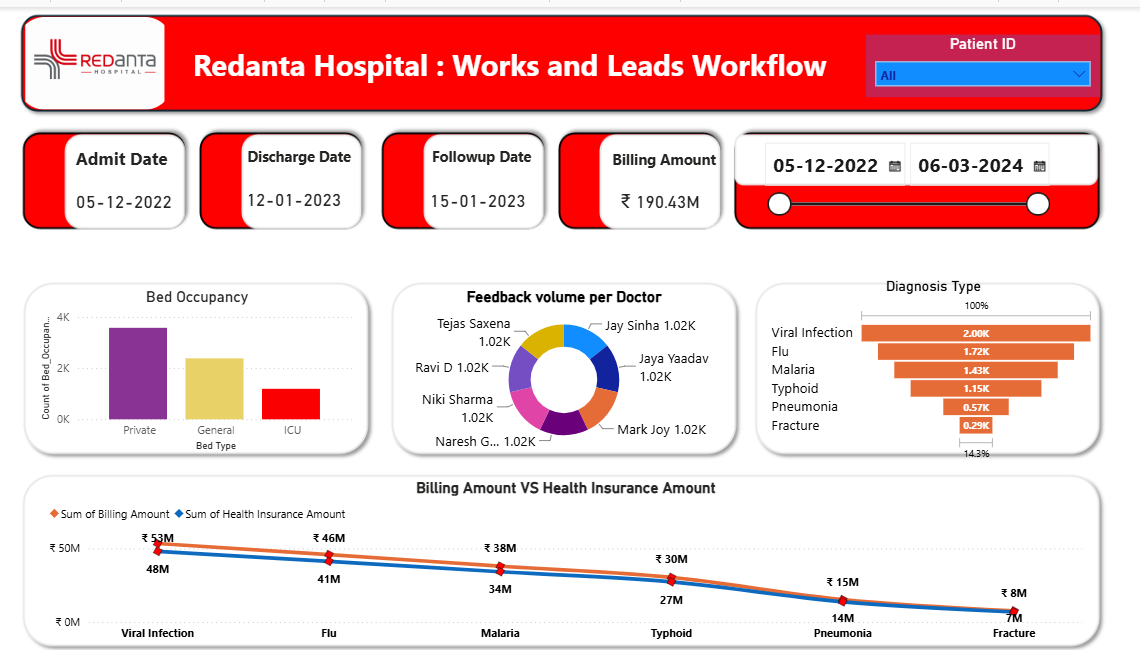

The page's visual inventory and layout, read from the dashboard file:
{"tool":"powerbi","page":{"name":"Page 1","canvas":[1280,720],"ordinal":0},"visuals":[{"type":"image","box":[45.3,11,170.2,101.5],"z":0},{"type":"textbox","box":[233.3,37,712.2,61.7],"z":1000},{"type":"slicer","title":"Patient ID","fields":{"Values":["Sheet1.Patient_ID"]},"box":[977,30.2,256.6,68.6],"z":2000},{"type":"card","fields":{"Values":["Min(Sheet1.Admit_Date)"]},"box":[91.9,197.6,141.3,32.9],"z":3000},{"type":"textbox","box":[98.8,148.2,122.1,35.7],"z":4000},{"type":"textbox","box":[278.6,148.2,152.3,35.7],"z":5000},{"type":"textbox","box":[480.3,148.2,149.6,35.7],"z":6000},{"type":"card","fields":{"Values":["Min(Sheet1.Discharge_Date)"]},"box":[278.6,197.6,141.3,26.1],"z":7000},{"type":"card","fields":{"Values":["Min(Sheet1.Followup Date)"]},"box":[480.3,199,141.3,26.1],"z":8000},{"type":"textbox","box":[680.6,150.9,149.6,35.7],"z":9000},{"type":"card","fields":{"Values":["Sum(Sheet1.Billing Amount)"]},"box":[680.6,197.6,141.3,32.9],"z":10000},{"type":"slicer","fields":{"Values":["Sheet1.Admit_Date"]},"box":[853.5,138.6,333.4,94.7],"z":11000},{"type":"columnChart","title":" Bed Occupancy","fields":{"Category":["Sheet1.Bed_Occupancy"],"Y":["CountNonNull(Sheet1.Bed_Occupancy)"]},"box":[65.9,307.4,354,185.2],"z":12000},{"type":"donutChart","title":"Feedback volume per Doctor ","fields":{"Category":["Sheet1.Doctor"],"Y":["CountNonNull(Sheet1.Doctor)"]},"box":[461.1,307.4,369.1,185.2],"z":13000},{"type":"funnel","title":"Diagnosis Type","fields":{"Category":["Sheet1.Diagnosis"],"Y":["CountNonNull(Sheet1.Diagnosis)"]},"box":[868.6,297.8,365,204.5],"z":14000},{"type":"lineChart","title":"Billing Amount VS Health Insurance Amount","fields":{"Y":["Sum(Sheet1.Billing Amount)","Sum(Sheet1.Health Insurance Amount)"],"Category":["Sheet1.Diagnosis"]},"box":[75.5,517.3,1144.4,188],"z":15000}]}

Visuals, with their boxes in screenshot pixels (x1, y1, x2, y2), scaled from the page's 1280x720 canvas onto the 1140x650 screenshot:
image: {"left": 40, "top": 10, "right": 192, "bottom": 102}
textbox: {"left": 208, "top": 33, "right": 842, "bottom": 89}
"Patient ID" slicer: {"left": 870, "top": 27, "right": 1099, "bottom": 89}
card - Min(Sheet1.Admit_Date): {"left": 82, "top": 178, "right": 208, "bottom": 208}
textbox: {"left": 88, "top": 134, "right": 197, "bottom": 166}
textbox: {"left": 248, "top": 134, "right": 384, "bottom": 166}
textbox: {"left": 428, "top": 134, "right": 561, "bottom": 166}
card - Min(Sheet1.Discharge_Date): {"left": 248, "top": 178, "right": 374, "bottom": 202}
card - Min(Sheet1.Followup Date): {"left": 428, "top": 180, "right": 554, "bottom": 203}
textbox: {"left": 606, "top": 136, "right": 739, "bottom": 168}
card - Sum(Sheet1.Billing Amount): {"left": 606, "top": 178, "right": 732, "bottom": 208}
slicer - Sheet1.Admit_Date: {"left": 760, "top": 125, "right": 1057, "bottom": 211}
" Bed Occupancy" columnChart: {"left": 59, "top": 278, "right": 374, "bottom": 445}
"Feedback volume per Doctor " donutChart: {"left": 411, "top": 278, "right": 739, "bottom": 445}
"Diagnosis Type" funnel: {"left": 774, "top": 269, "right": 1099, "bottom": 453}
"Billing Amount VS Health Insurance Amount" lineChart: {"left": 67, "top": 467, "right": 1086, "bottom": 637}
